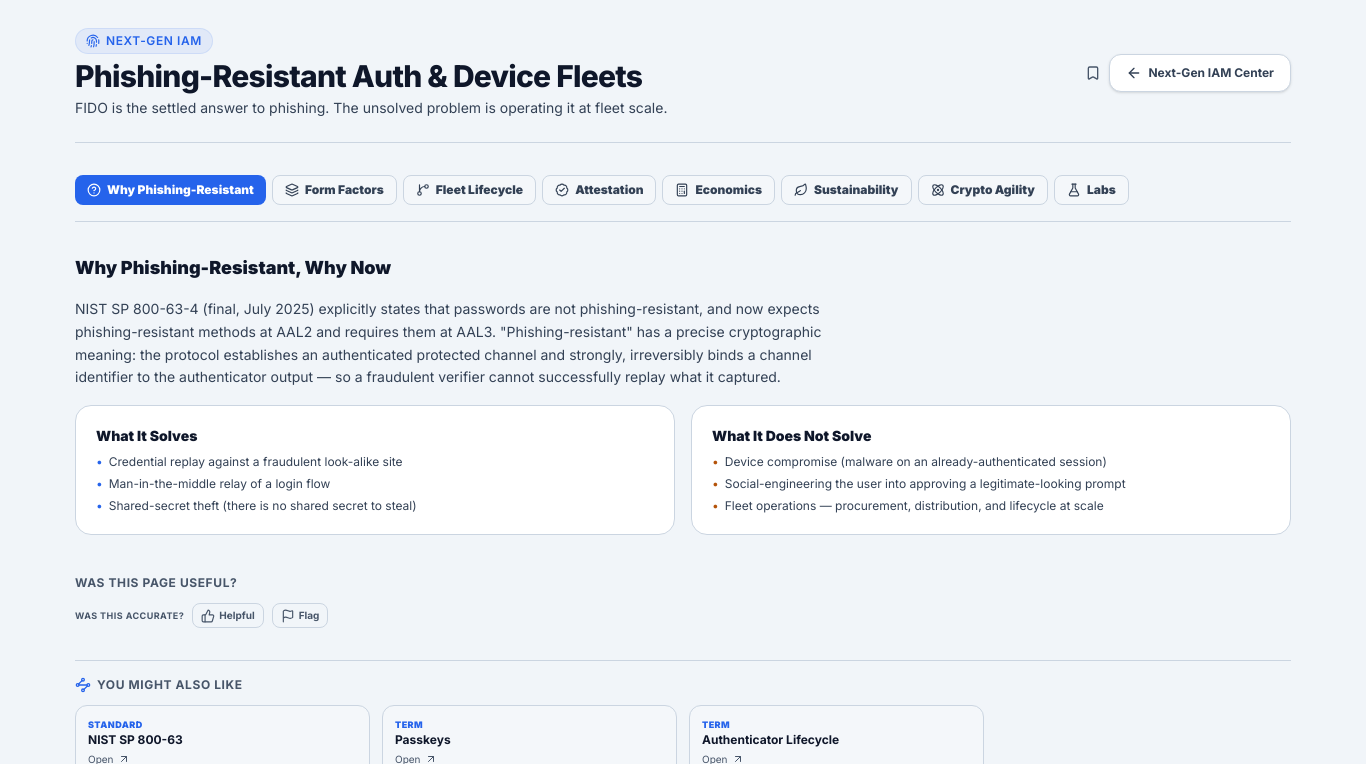
Scenario: PhishingResistantAuthCenter page › shows all 6 form factors on the form-factors tab
The image size is (1366, 764).
Click the button "Form Factors". click: point(334, 190)
box: [272, 175, 397, 205]
(page scrolled)
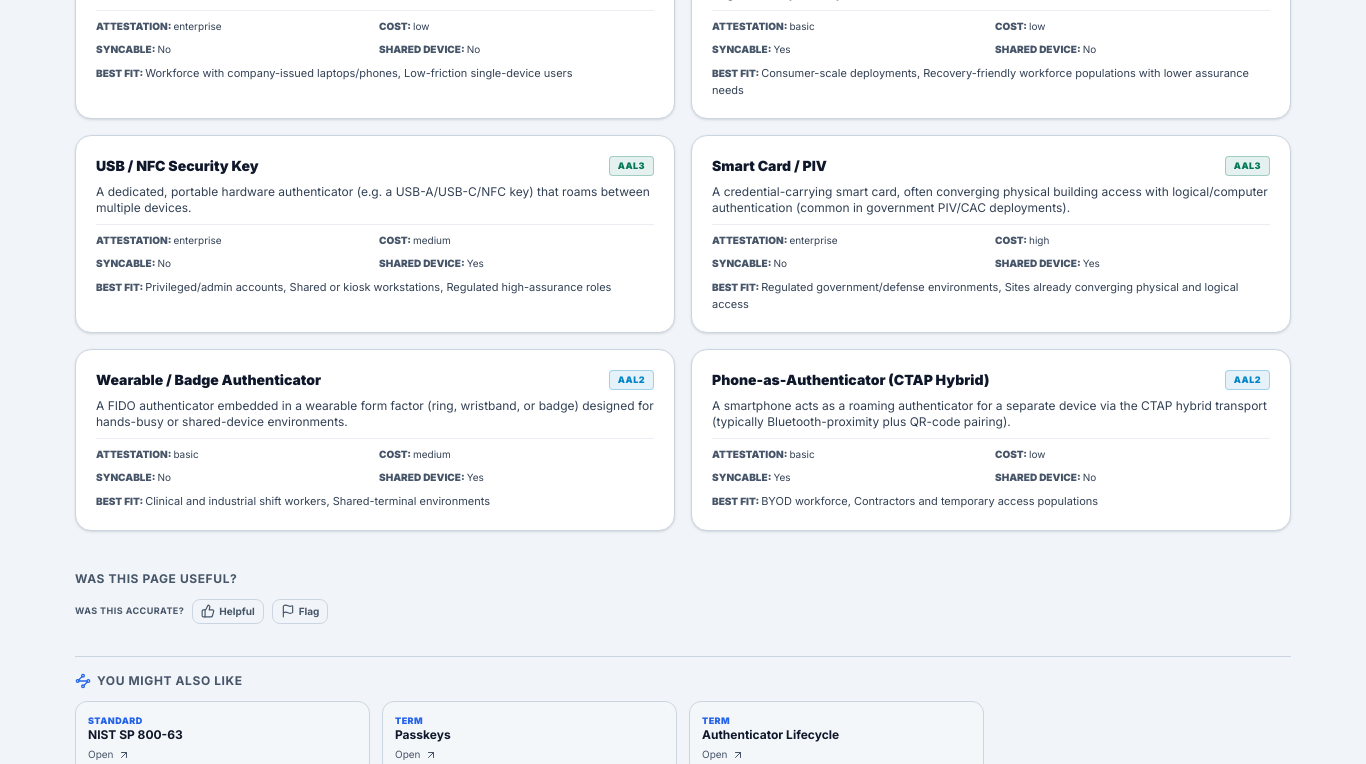
expect the heading "USB / NFC Security Key" is shown: met, box [96, 156, 259, 176]
expect the heading "Smart Card / PIV" is shown: met, box [712, 156, 827, 176]
expect the heading "Wearable / Badge Authenticator" is shown: met, box [96, 370, 321, 390]
